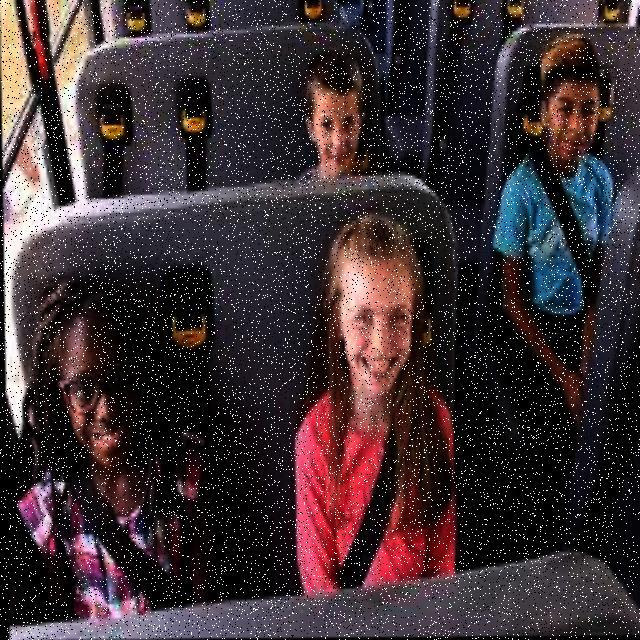seatbelt: (320, 386, 444, 603), (51, 451, 188, 611), (510, 161, 620, 329)
